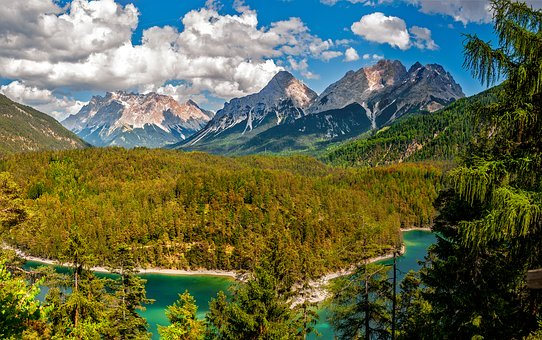forest: (16, 126, 540, 331)
mountain: (18, 128, 542, 333), (78, 73, 485, 156)
sky: (4, 1, 485, 82)
